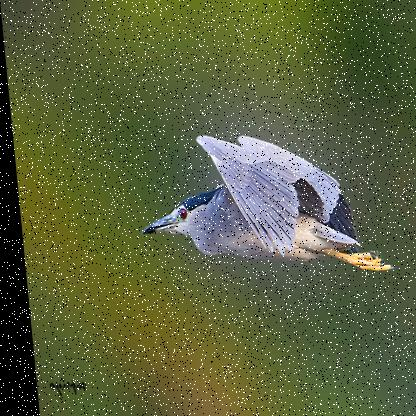Burung: (128, 133, 394, 273)
